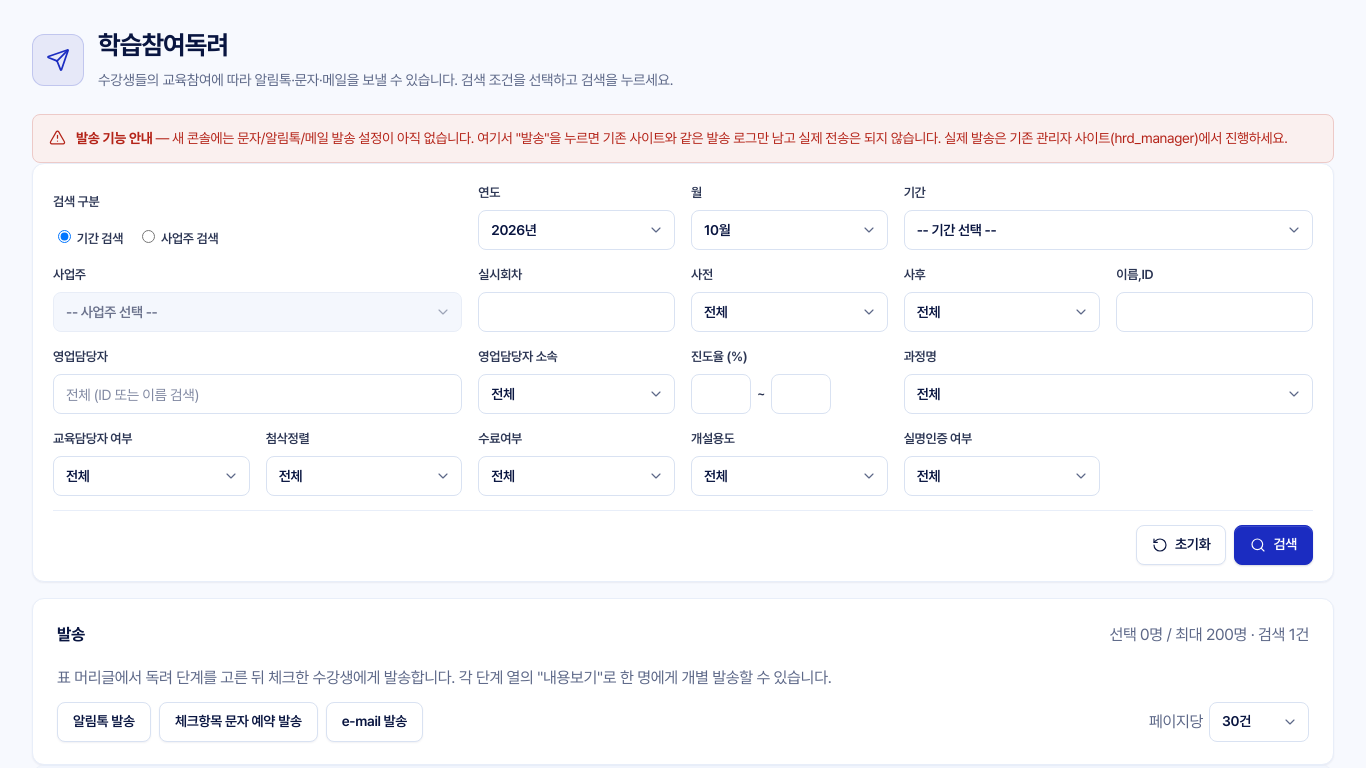
Test: 독려 관리 pages › 학습참여독려: batch send needs a stage and checked rows, then posts /admin/nudge/send and shows the per-row status
Click the button "알림톡 발송". click: coordinates (104, 722)
box: x1=57 y1=702 x2=151 y2=742
(page scrolled)
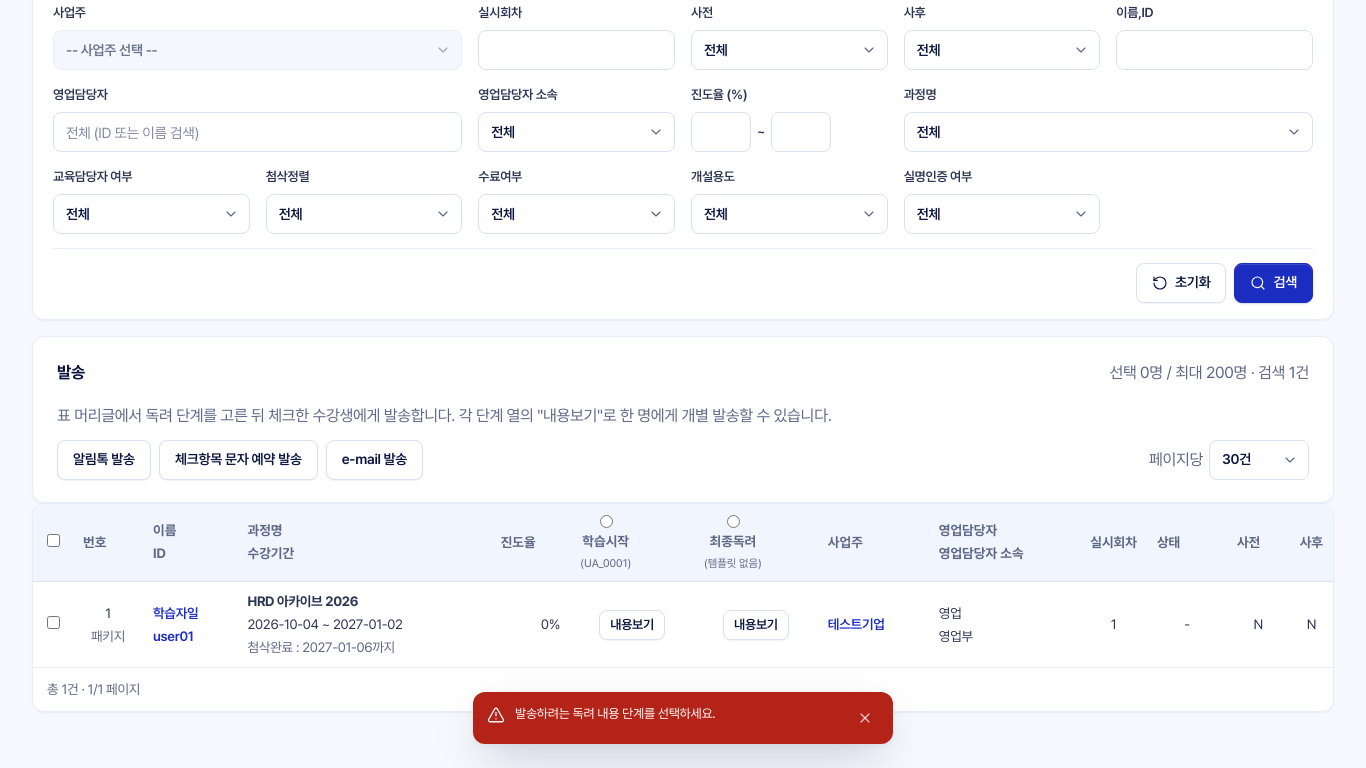
Expected: the text "발송하려는 독려 내용 단계를 선택하세요." is shown, x1=515 y1=706 x2=715 y2=721
Click the radio button labelled "학습시작 (UA_0001)". click: coordinates (607, 521)
box: x1=600 y1=515 x2=613 y2=528
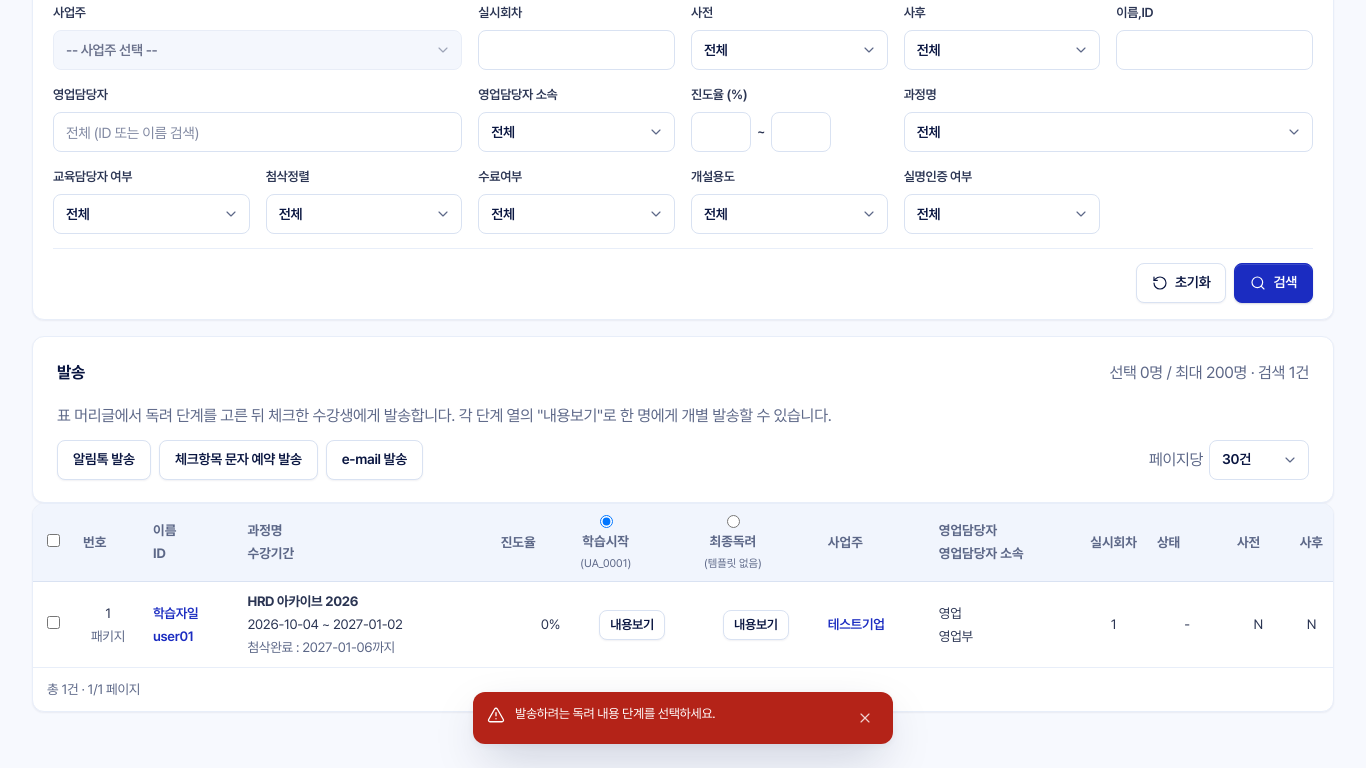
Click the checkbox named "선택 user01". click: coordinates (54, 623)
box: x1=47 y1=616 x2=60 y2=629
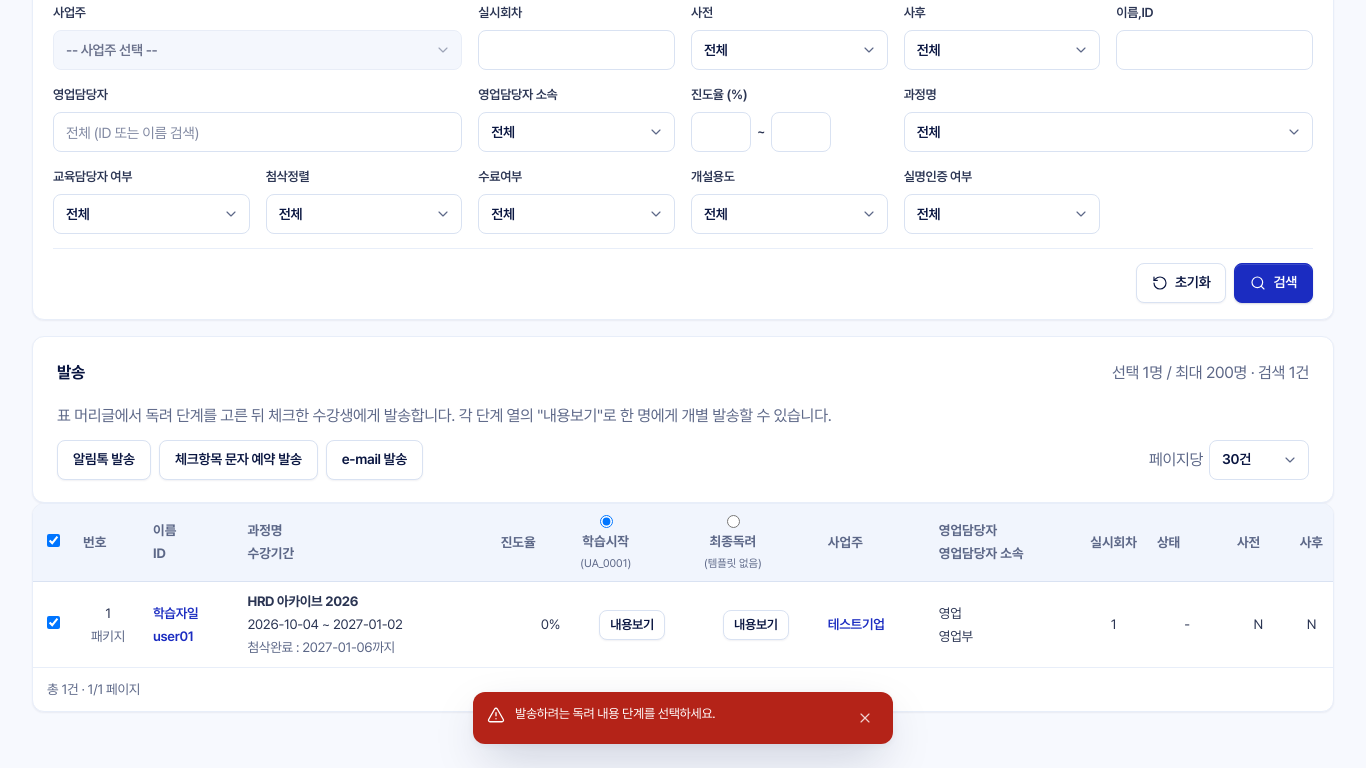
Click the button "알림톡 발송". click: coordinates (104, 460)
box: x1=57 y1=440 x2=151 y2=480
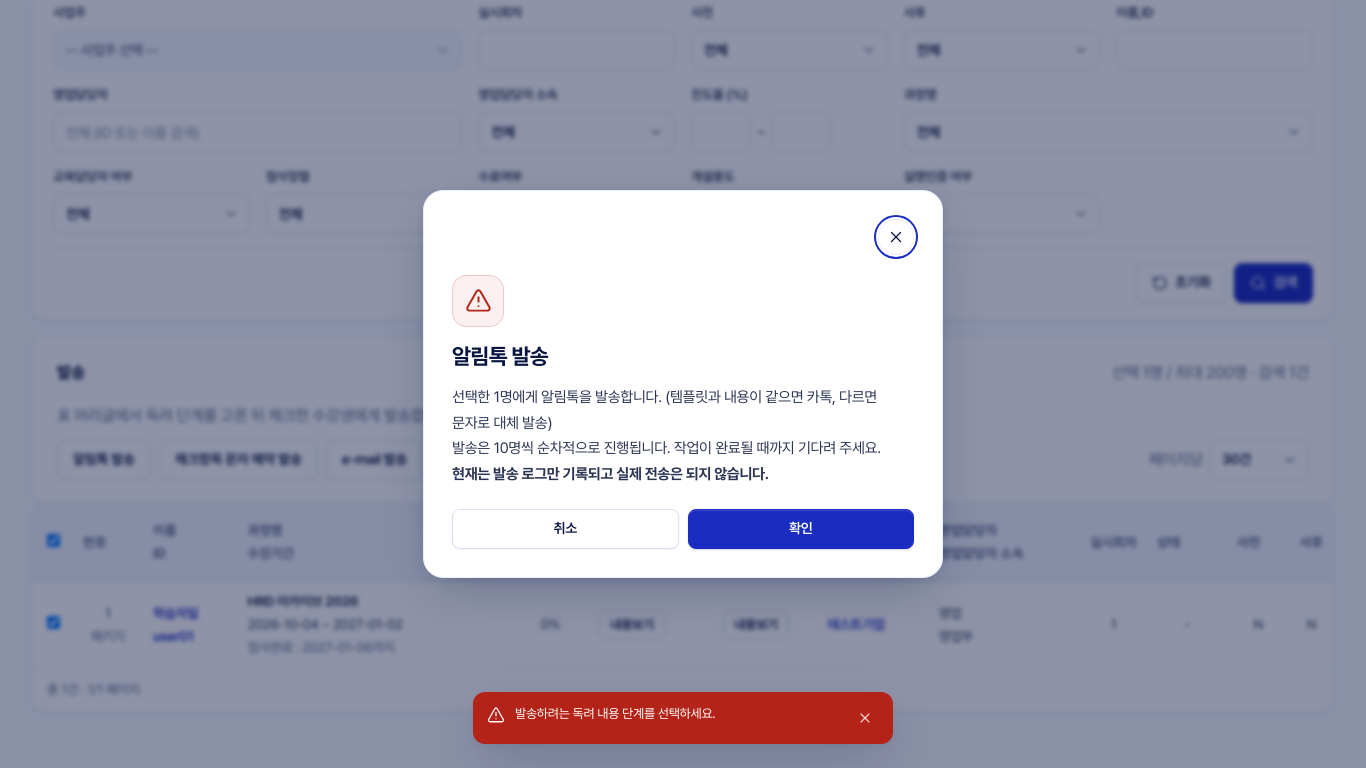
Click the button "확인". click: coordinates (801, 529)
box: x1=688 y1=509 x2=914 y2=549
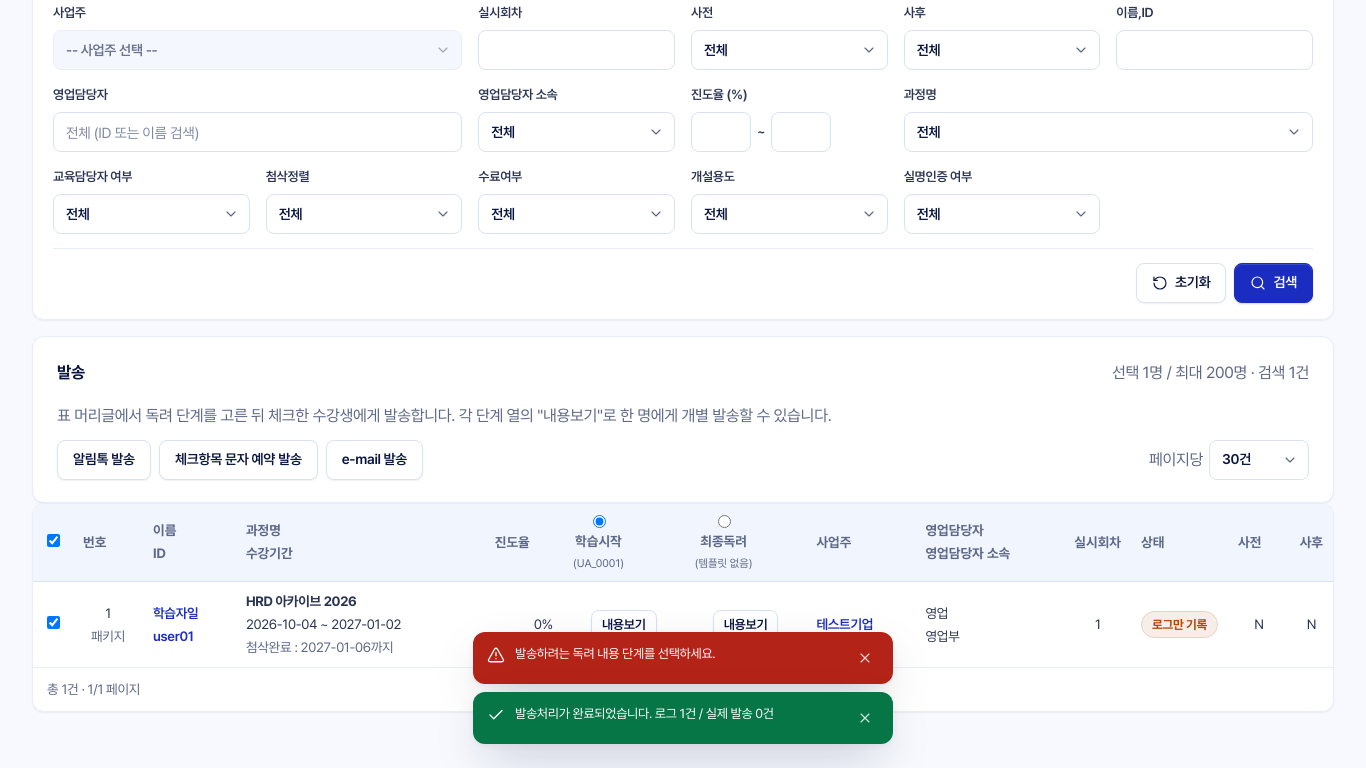
Expected: the text "로그만 기록" is shown, x1=1141 y1=611 x2=1218 y2=638
Expected: the text "발송처리가 완료되었습니다. 로그 1건 / 실제 발송 0건" is shown, x1=515 y1=706 x2=774 y2=721
